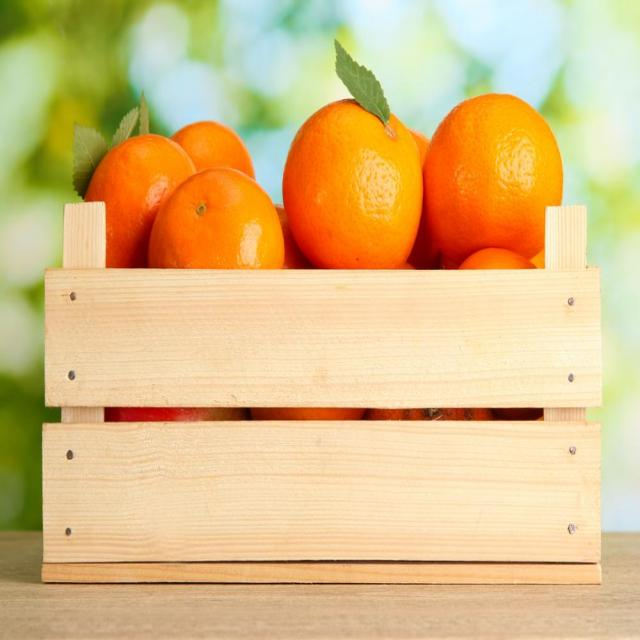10_tangerine: (423, 87, 565, 256), (282, 98, 419, 270), (83, 130, 197, 268), (144, 170, 278, 270)
